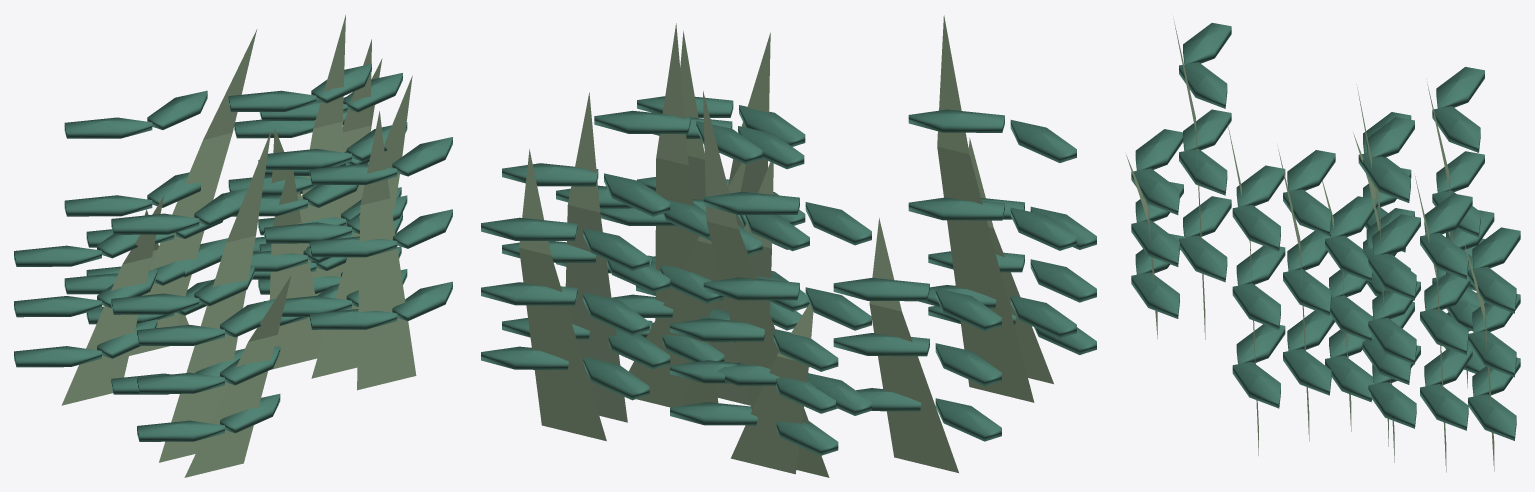
The model's file is fern_variant_02.glb.
3 views of the same model, side by side, from view 1: azimuth 30°, elevation 25°; view 2: azimuth 150°, elevation 25°; view 3: azimuth 270°, elevation 25° (orthographic). The views are drawn at different scales.
Visible parts, largest first — view 1: static_leaf_pine, static_leaf_sage; view 2: static_leaf_pine, static_leaf_sage; view 3: static_leaf_pine, static_leaf_sage.
Part boxes in pixels (x1,y1,x2,y2): static_leaf_pine: (14, 64, 452, 441); static_leaf_sage: (61, 15, 416, 477); static_leaf_pine: (481, 96, 1096, 455); static_leaf_sage: (519, 15, 1053, 477); static_leaf_pine: (1131, 23, 1520, 440); static_leaf_sage: (1126, 19, 1494, 472).
Bounding box in the file's own units: 1.13 × 0.8633 × 0.8511.
